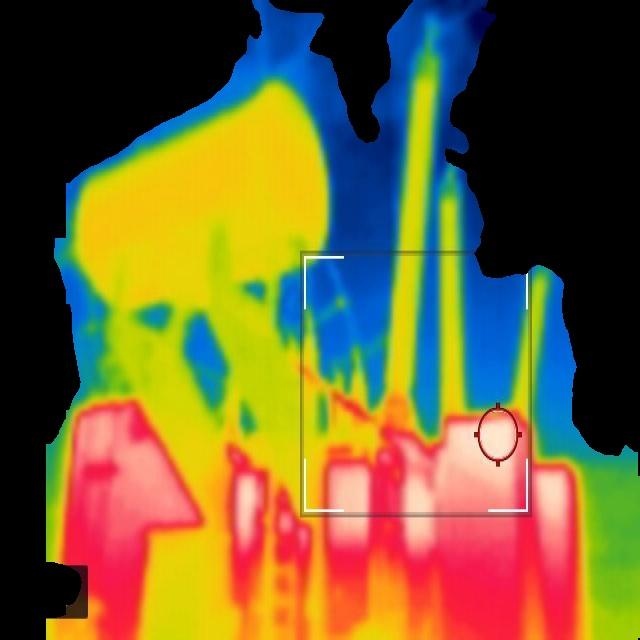Full Wire Overload PF: (284, 360, 388, 439)
Transformer Overload: (60, 404, 587, 639)
